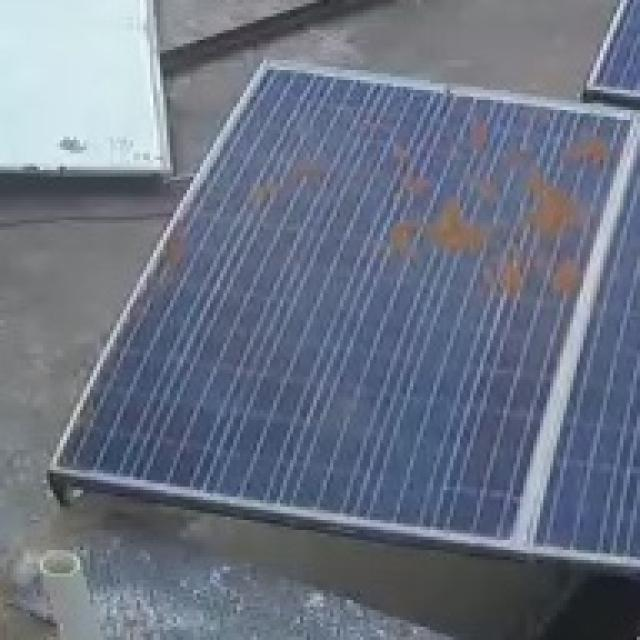Anomaly Solar Panel: (52, 63, 636, 544)
Surface Contaminant: (506, 132, 596, 238), (382, 203, 489, 259), (253, 138, 334, 205), (490, 245, 580, 303), (380, 140, 440, 194), (156, 244, 199, 273), (466, 167, 492, 195), (464, 127, 488, 151)
